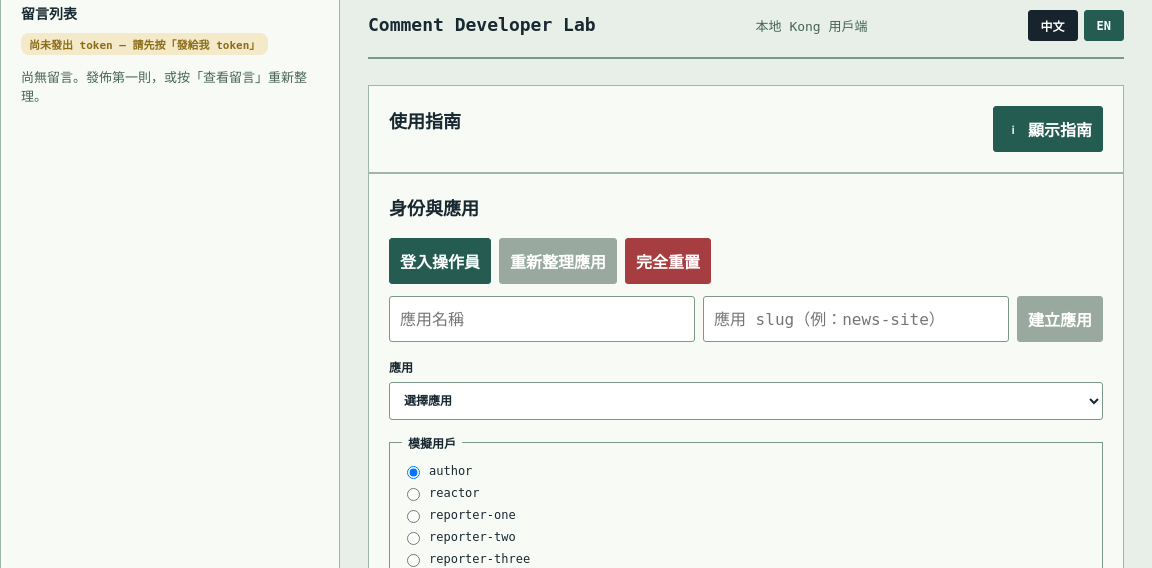
Lab comment board interactions › loads replies as a nested thread
Step 1. Click the button "登入操作員" → (440, 261), box [389,238,491,284]
(page scrolled)
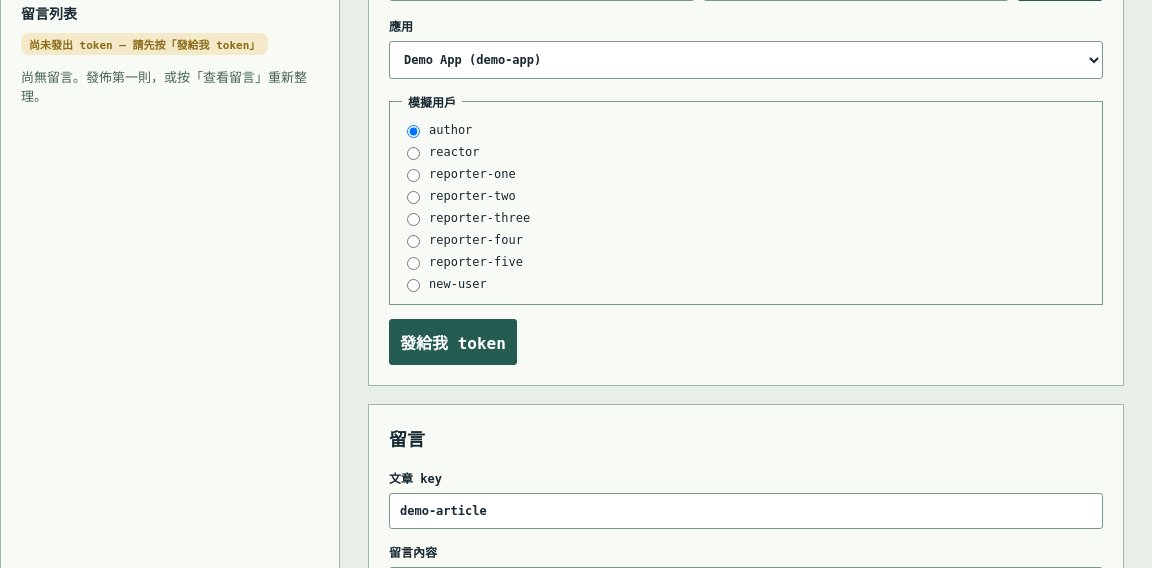
Step 2. Click the button "發給我 token" → (453, 342), box [389,319,517,365]
(page scrolled)
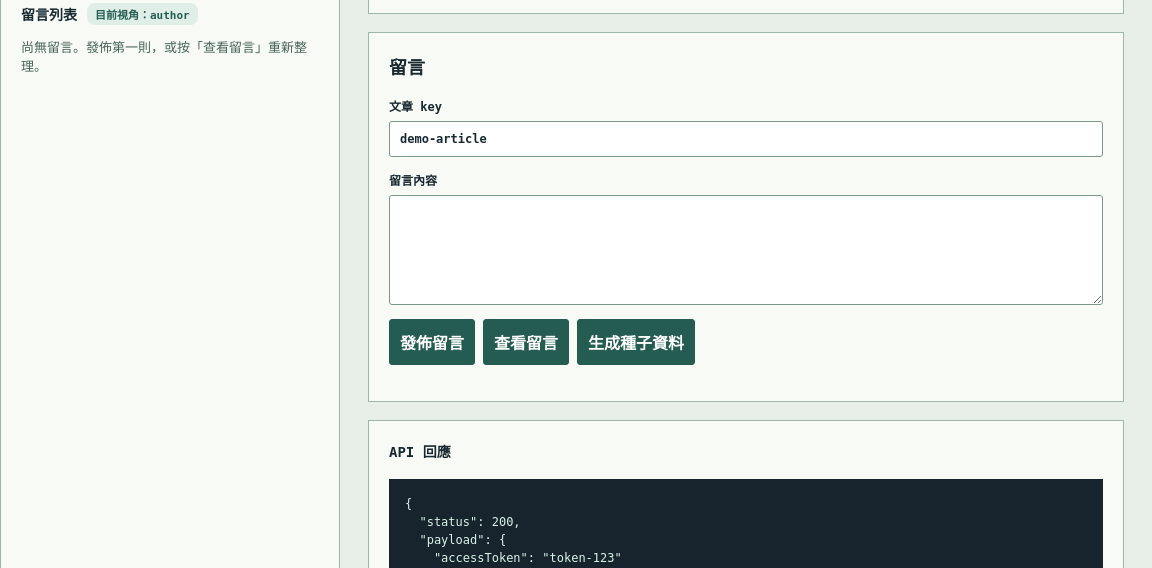
Step 3. Click the button "查看留言" → (526, 342), box [483,319,569,365]
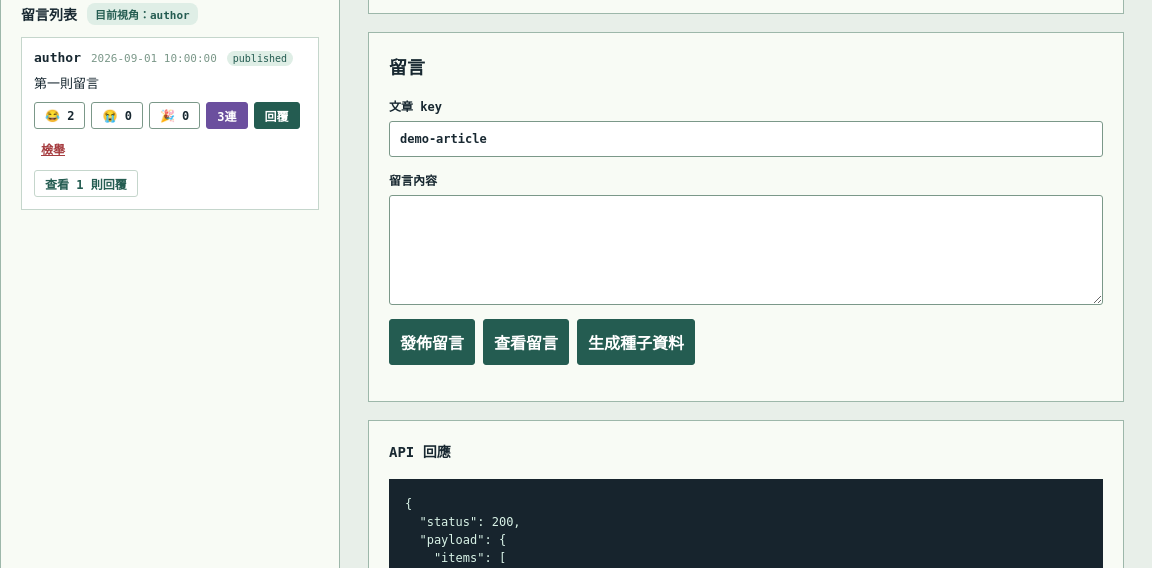
Expected: the element with id "lab" shows "查看 1 則回覆"
Step 4. Click the button "查看 1 則回覆" → (86, 184), box [34,170,138,197]
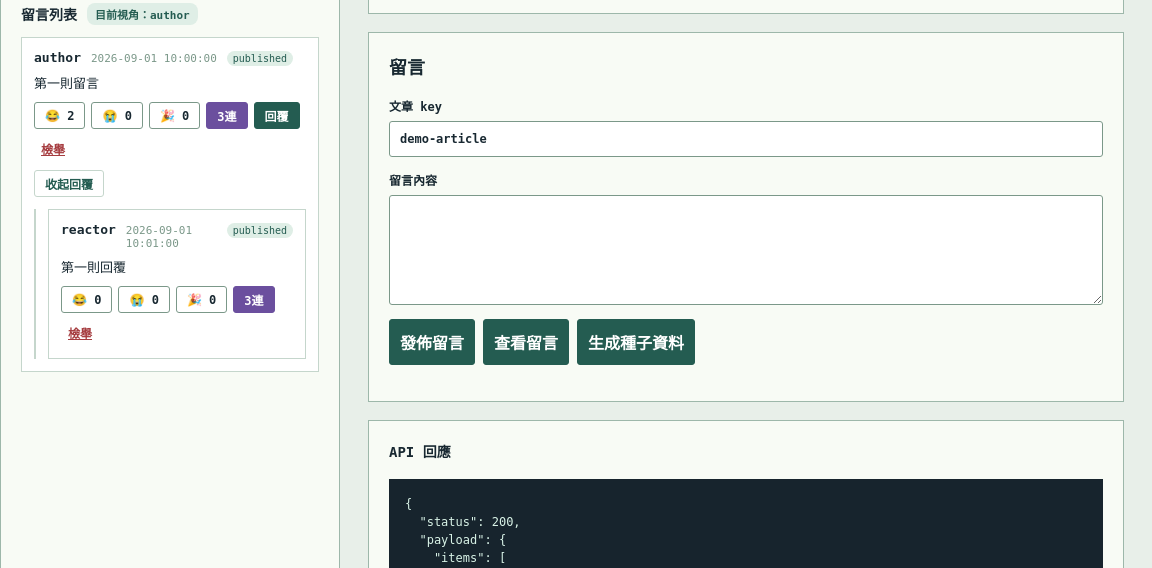
Expected: the element with id "lab" shows "第一則回覆", [61,260,126,275]
Expected: the element with class "reply" is shown, [48,209,306,359]
